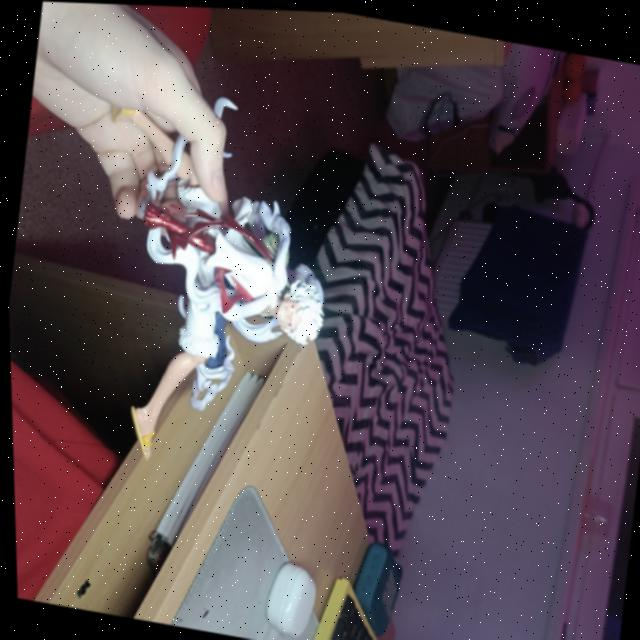luffy: (94, 118, 350, 488)
